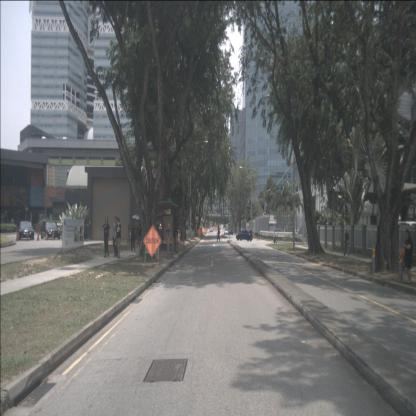human-pedestrian-adult: (401, 230, 413, 284), (130, 215, 142, 252), (102, 217, 110, 258), (114, 218, 122, 258), (113, 216, 119, 258), (136, 223, 143, 251), (343, 230, 349, 258), (174, 224, 178, 252), (216, 226, 220, 243), (274, 230, 278, 245)
movable_object-trafficcone: (16, 230, 19, 241), (45, 230, 48, 240), (37, 231, 40, 241), (51, 231, 54, 240), (26, 232, 29, 240)
vehicle-car: (41, 221, 60, 239), (18, 220, 34, 240), (236, 230, 253, 242), (228, 226, 233, 235), (224, 228, 229, 236)
